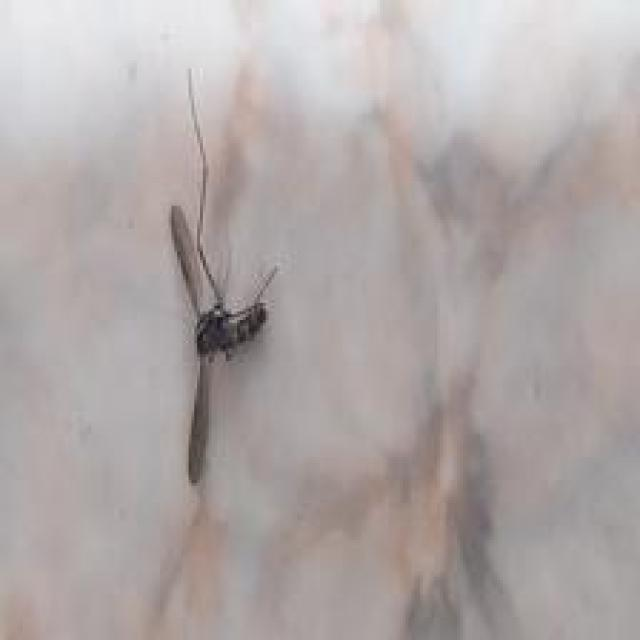Aedes albopictus: (166, 66, 280, 486)
